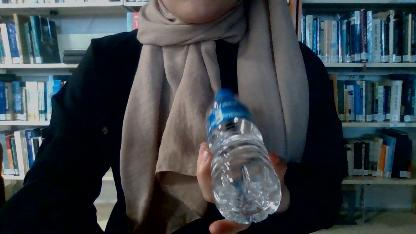Plastic Bottle: (204, 86, 282, 224)
